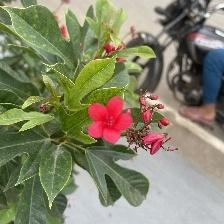jatropha: (87, 98, 134, 145)
